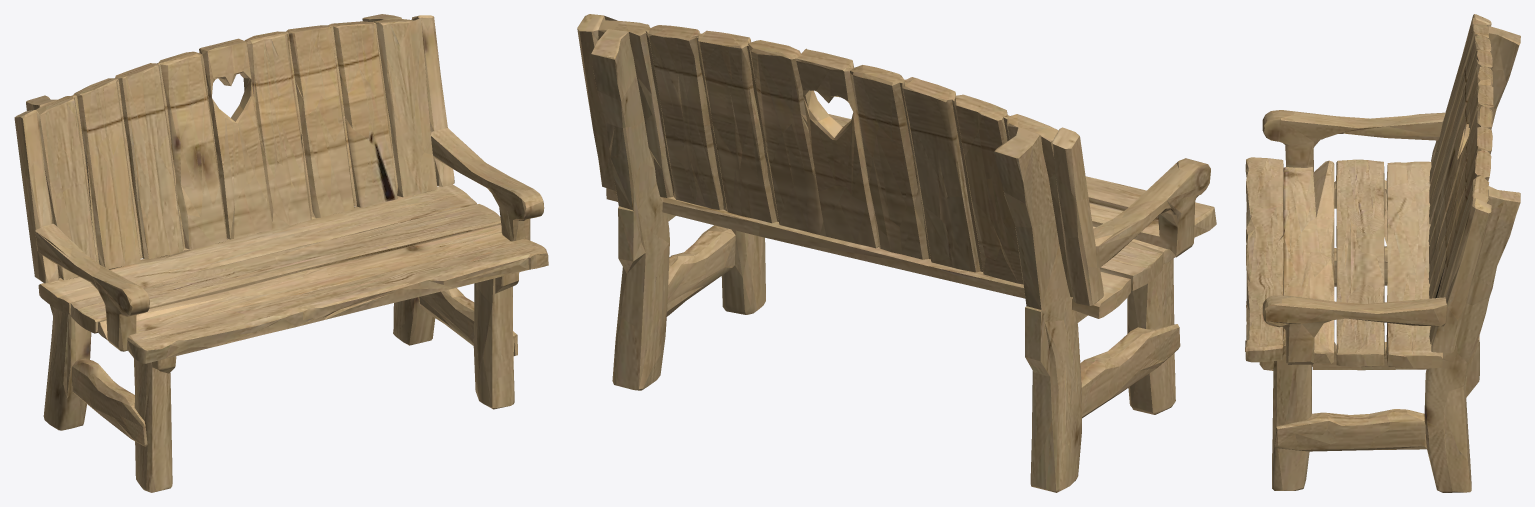
File: garden_bench.glb
The picture shows the model from 3 angles, left to right: view 1: azimuth 30°, elevation 25°; view 2: azimuth 150°, elevation 25°; view 3: azimuth 270°, elevation 25°; orthographic projection. The views are drawn at different scales.
Bounding box in the file's own units: 1.9 × 1.42 × 1.13.
1 material, 1 textured.
